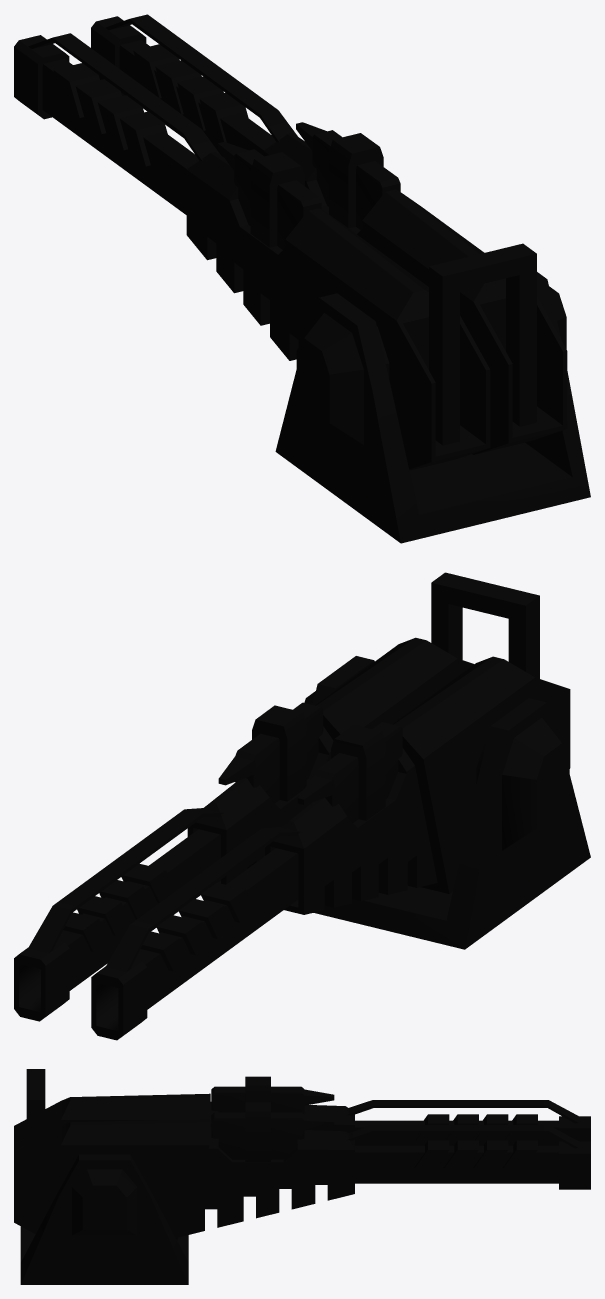
Rendered from medium.fbx.
3 views of the same model, one above another, from view 1: azimuth 30°, elevation 25°; view 2: azimuth 150°, elevation 25°; view 3: azimuth 270°, elevation 25° (orthographic). The views are drawn at different scales.
Visible parts, largest first — view 1: medium; view 2: medium; view 3: medium.
Part boxes in pixels (x1,y1,x2,y2): medium: (14, 14, 590, 543); medium: (14, 572, 590, 1040); medium: (14, 1069, 590, 1284).
Bounding box in the file's own units: 138 × 436 × 141.
